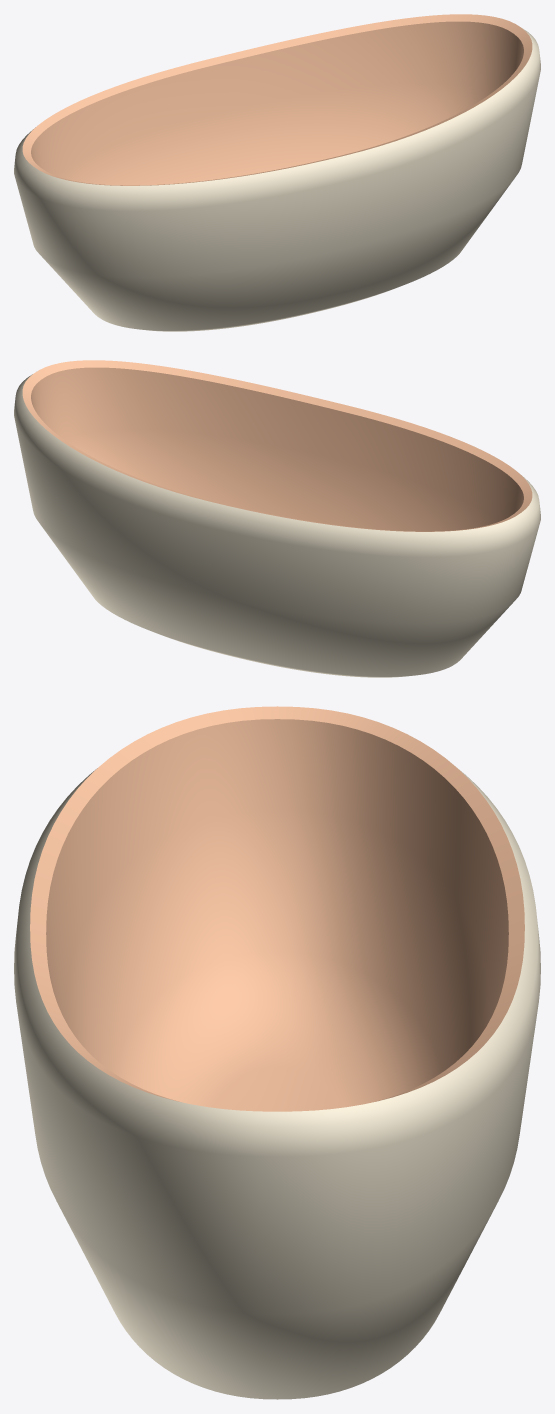
File: banheira_oval_creme.glb
3 views of the same model, one above another, from view 1: azimuth 30°, elevation 25°; view 2: azimuth 150°, elevation 25°; view 3: azimuth 270°, elevation 25° (orthographic). The views are drawn at different scales.
Visible parts, largest first — view 1: banheira_oval_creme; view 2: banheira_oval_creme; view 3: banheira_oval_creme.
Part boxes in pixels (x1,y1,x2,y2): banheira_oval_creme: (14,14,540,331); banheira_oval_creme: (14,360,540,677); banheira_oval_creme: (14,706,540,1399).
Bounding box in the file's own units: 1.68 × 0.6144 × 0.82.
Materials: 1 (1 with a texture image).
